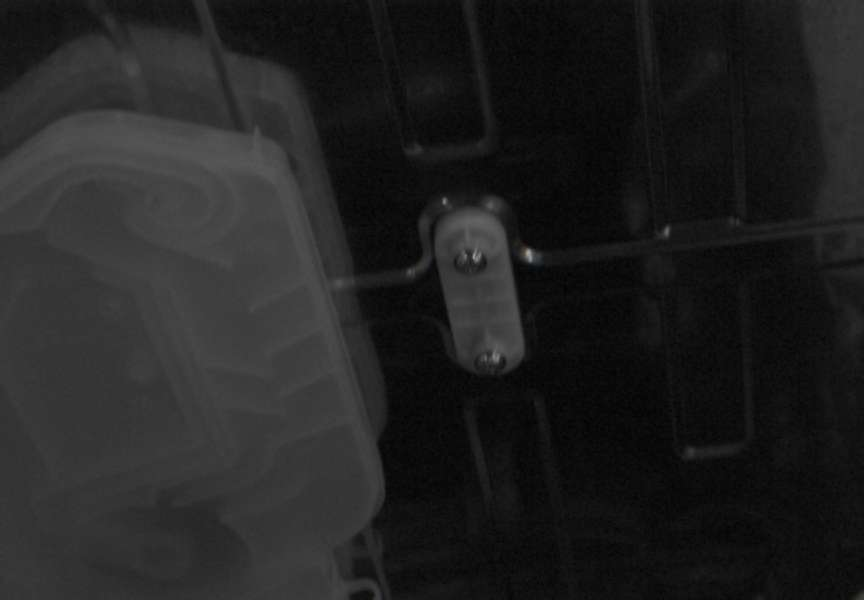screw: (454, 248, 487, 275), (474, 350, 507, 376)
